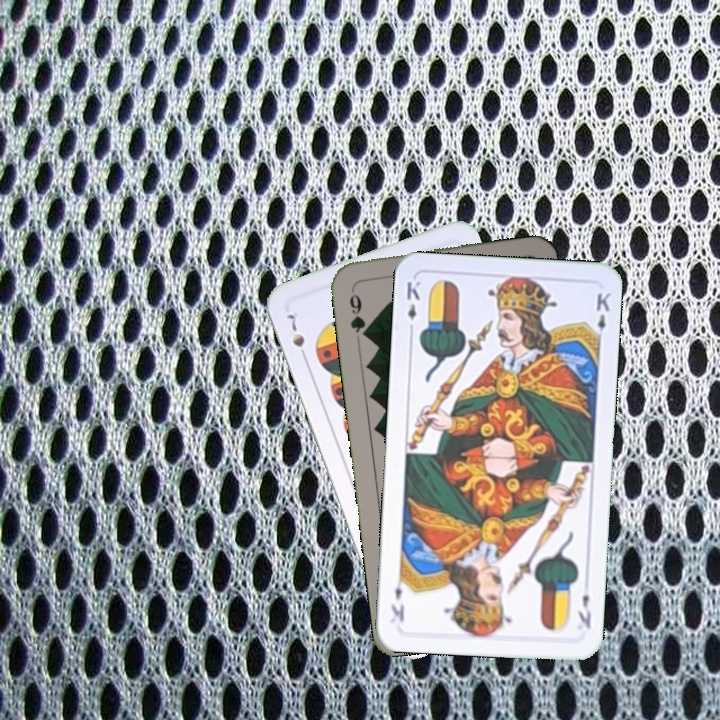EK: (402, 277, 423, 336), (574, 590, 594, 631)
G9: (345, 283, 371, 341)
S7: (283, 307, 310, 364)
